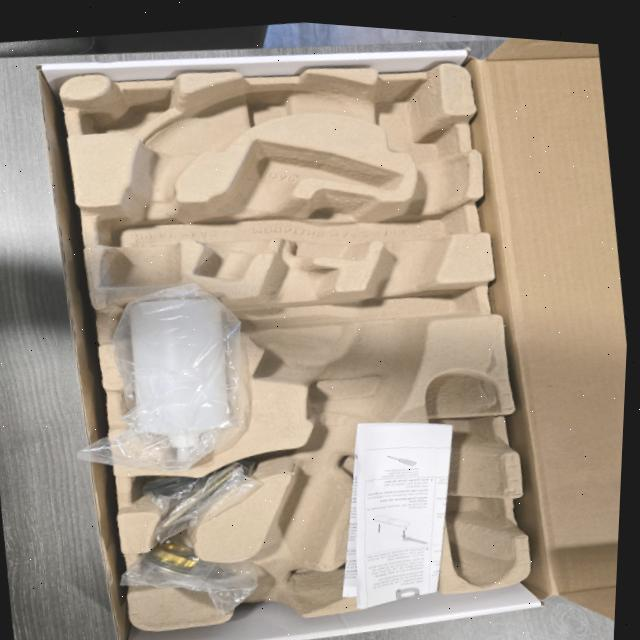1m: (100, 74, 464, 618)
2m: (191, 137, 401, 280)
3: (115, 297, 234, 466)
4m: (425, 367, 513, 589)
5m: (364, 541, 433, 586)
6: (111, 539, 256, 615)
7: (138, 461, 265, 543)
8: (340, 419, 457, 608)
